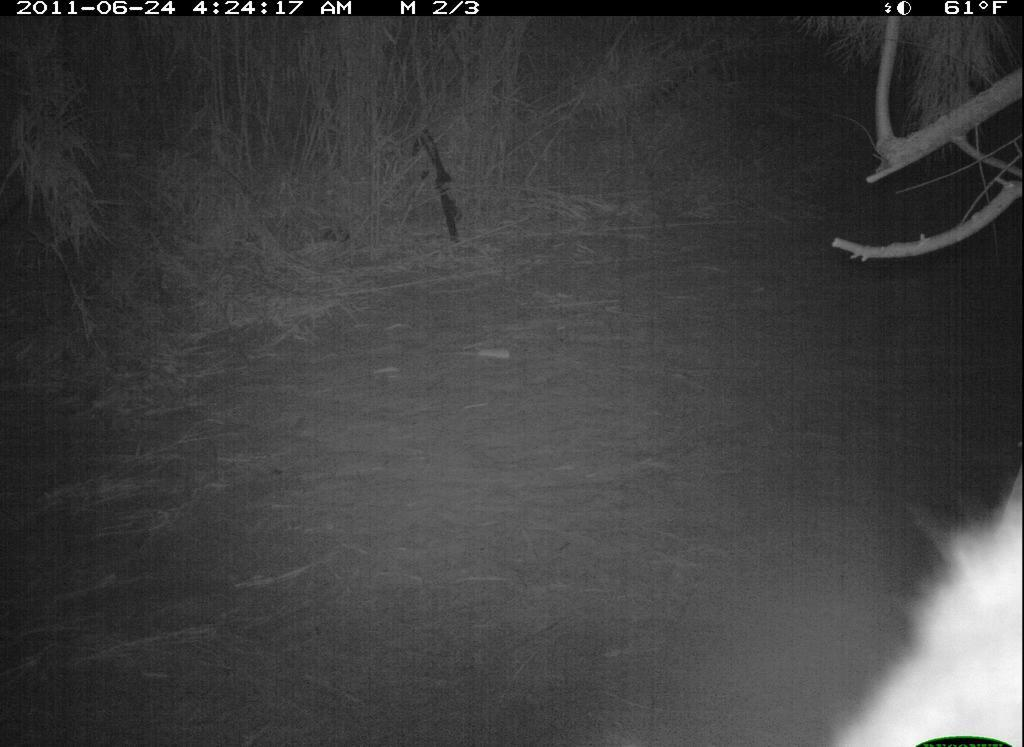raccoon: (812, 432, 1022, 747)
